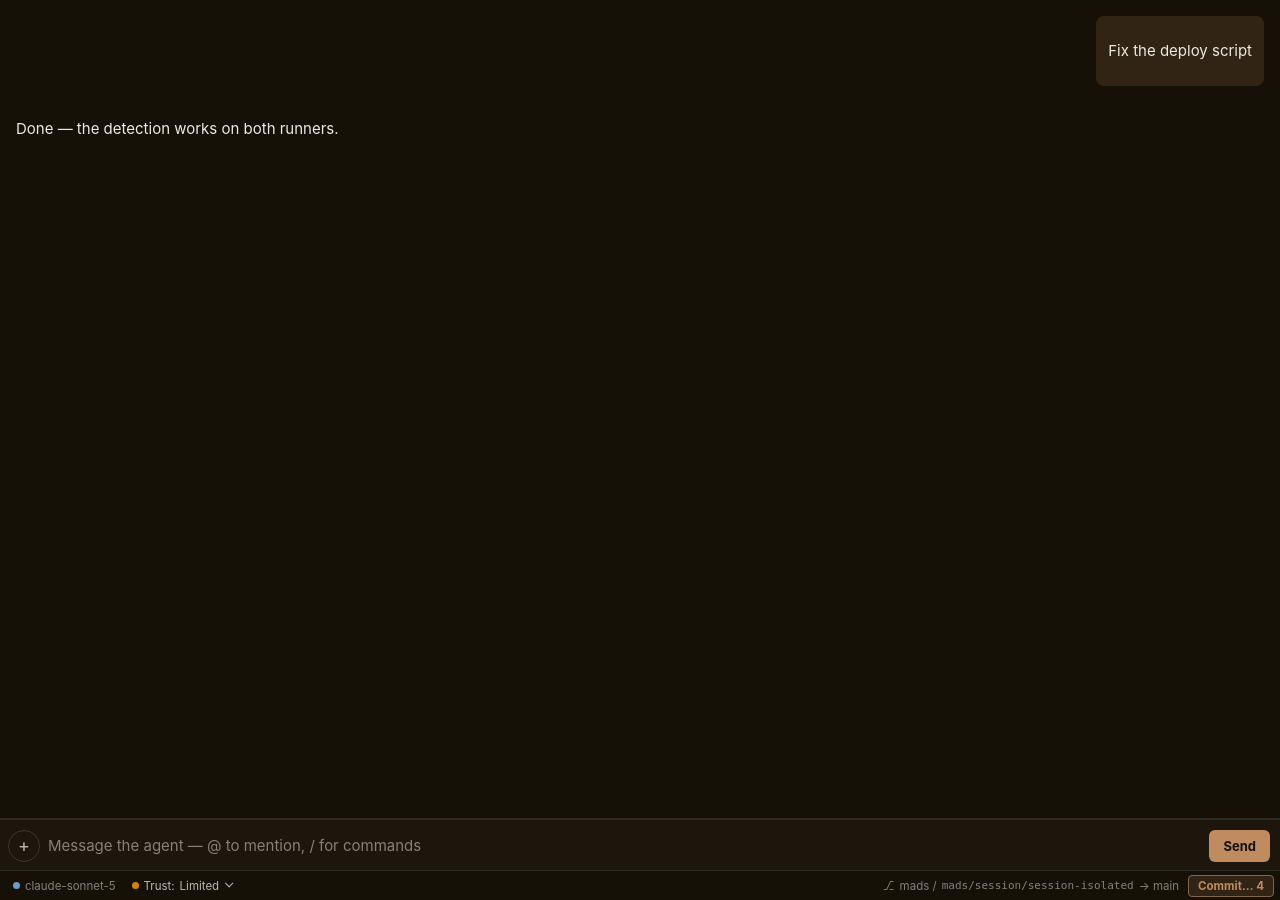
ConversationTab — Commit and Land › commits in one click with 'Write commit messages for me', shows one card, and Undo takes it back
Later steps or results of the test are not shown.
Check: the text "Done — the detection works on both runners." is shown, box [16,117,339,141]
Click the button "Commit… 4": (1231, 886) [1188,874,1274,896]
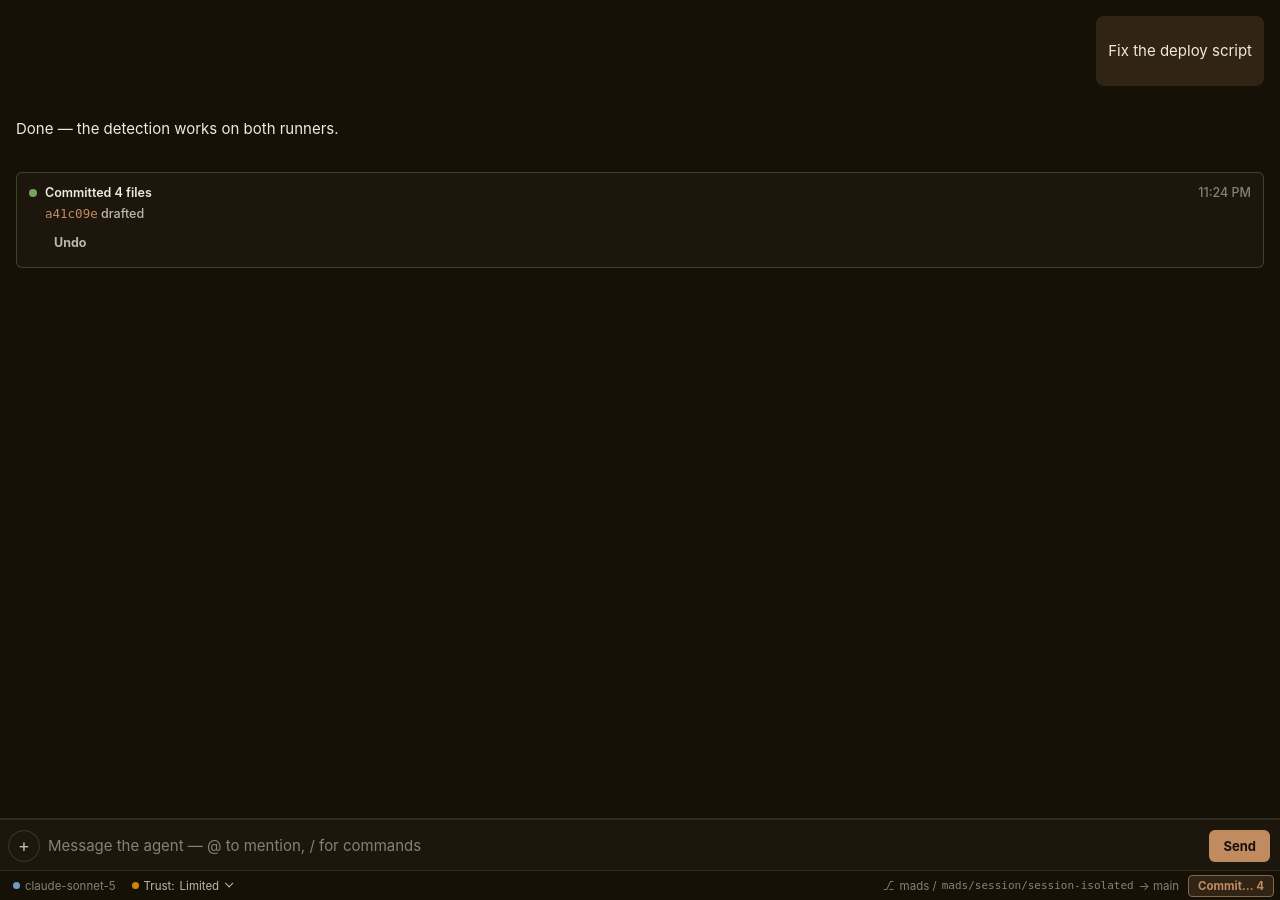
Check: the text "Committed 4 files" is shown, box [45,185,152,200]
